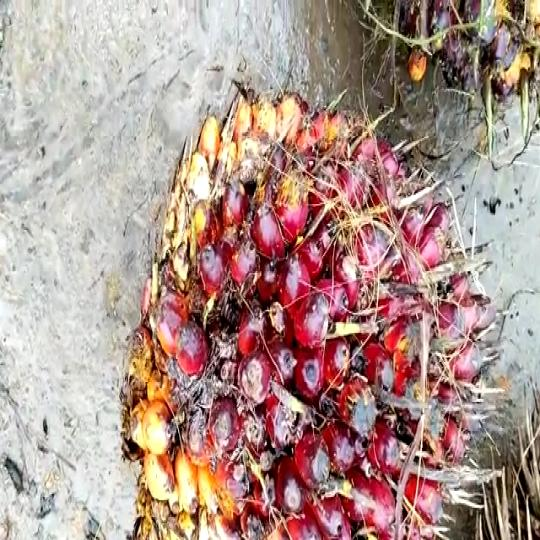kurang masak: (126, 55, 493, 540)
